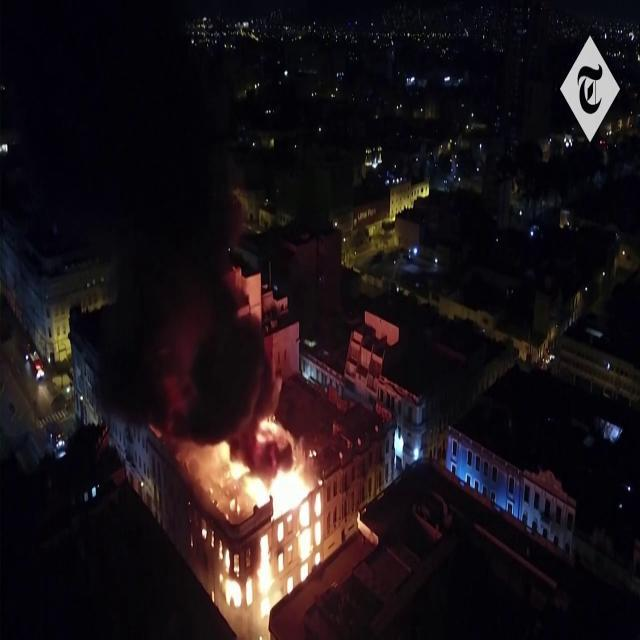Fire: (208, 427, 326, 626)
Smoke: (94, 31, 270, 429)
